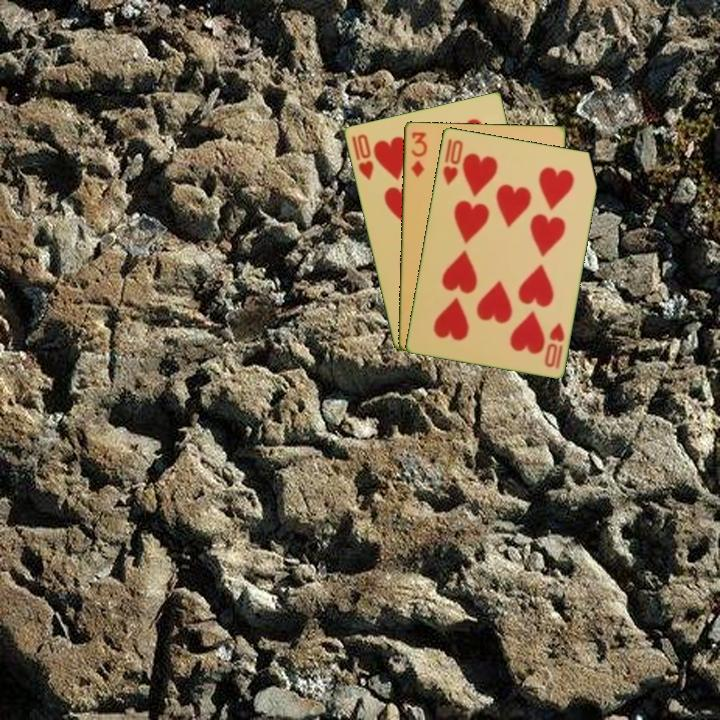10h: (439, 135, 466, 188), (541, 319, 567, 371), (353, 130, 376, 183)
3d: (407, 128, 429, 180)
